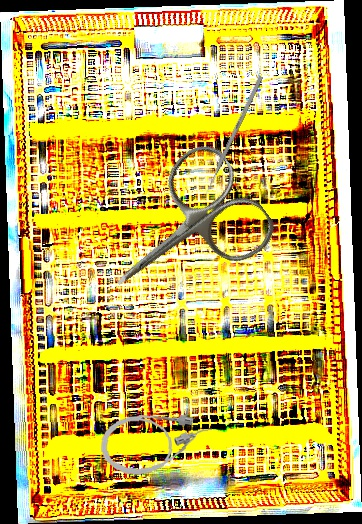Cannula: (98, 409, 216, 478)
Iris Scissors: (79, 135, 284, 332)
Pusher: (201, 75, 264, 200)
